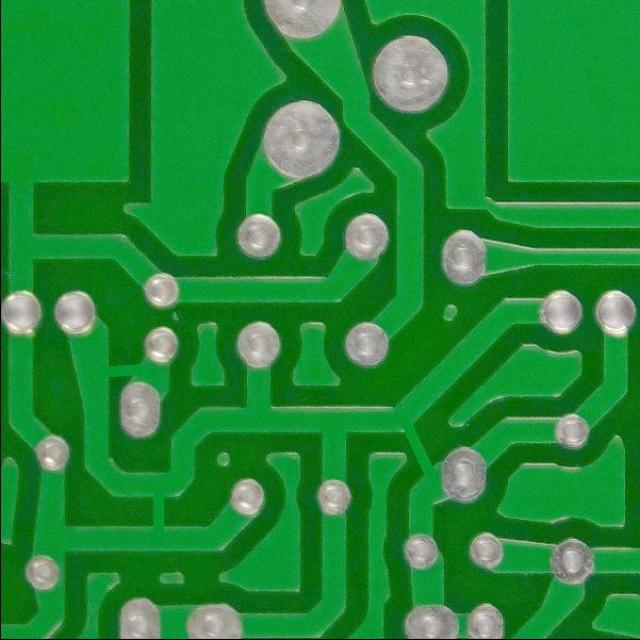Short_Circuit: (384, 406, 451, 493), (130, 468, 187, 560), (69, 349, 176, 395)
